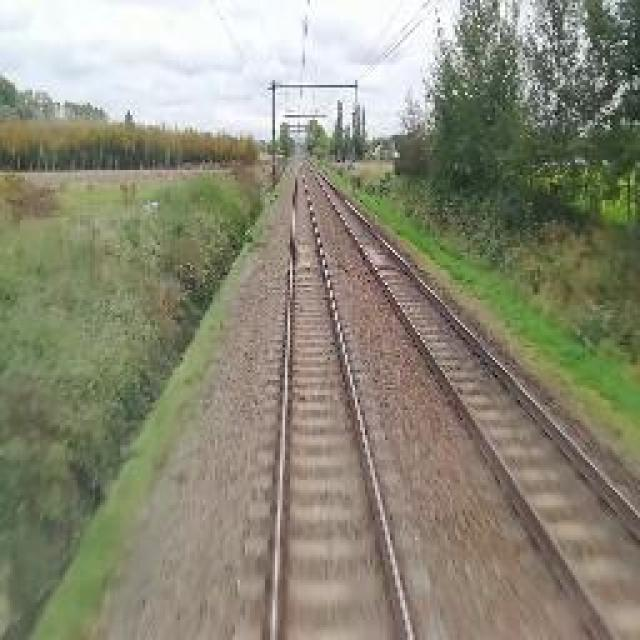rail: (229, 154, 454, 640)
